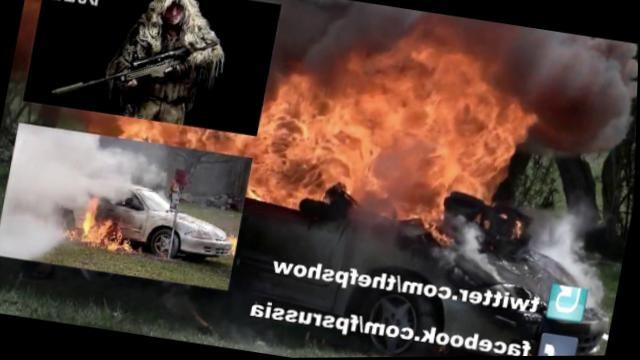fire: (357, 31, 473, 223), (247, 72, 342, 209), (448, 82, 529, 199), (318, 50, 385, 191), (116, 114, 257, 158), (82, 196, 102, 243), (94, 217, 113, 246), (108, 230, 125, 250), (120, 241, 135, 252)
